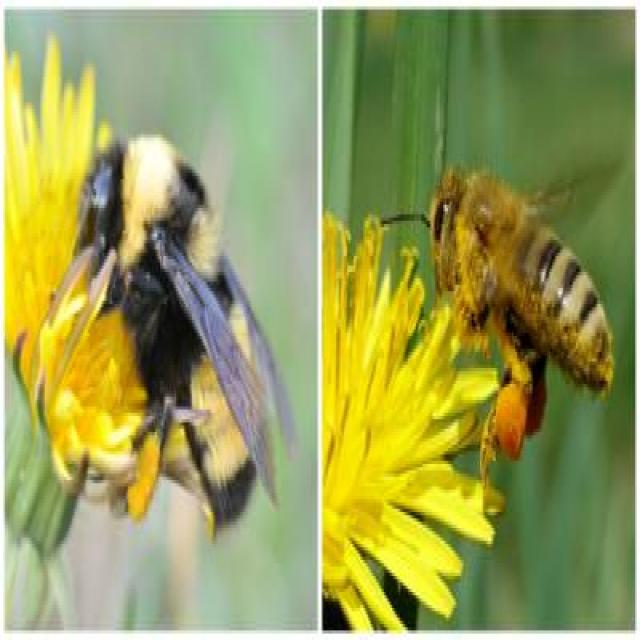antennae: (380, 208, 431, 232)
body: (71, 137, 272, 533), (429, 172, 614, 400)
insect: (38, 138, 298, 535), (379, 153, 625, 492)
legs: (481, 292, 552, 488), (117, 393, 179, 509), (448, 286, 495, 362)
mouthpart: (432, 250, 450, 319), (72, 198, 90, 264)
wings: (151, 227, 281, 519), (216, 245, 297, 466), (512, 158, 622, 246)
